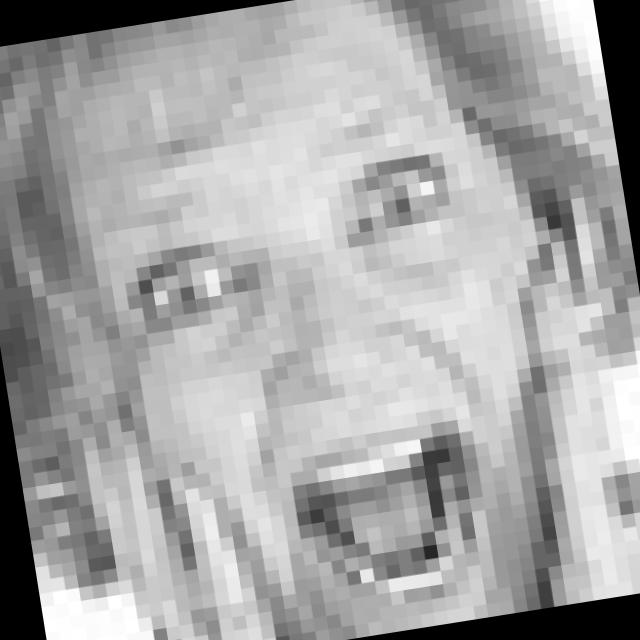fear: (59, 79, 550, 640)
